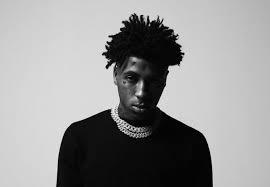quandale-dingle: (115, 42, 169, 119)
